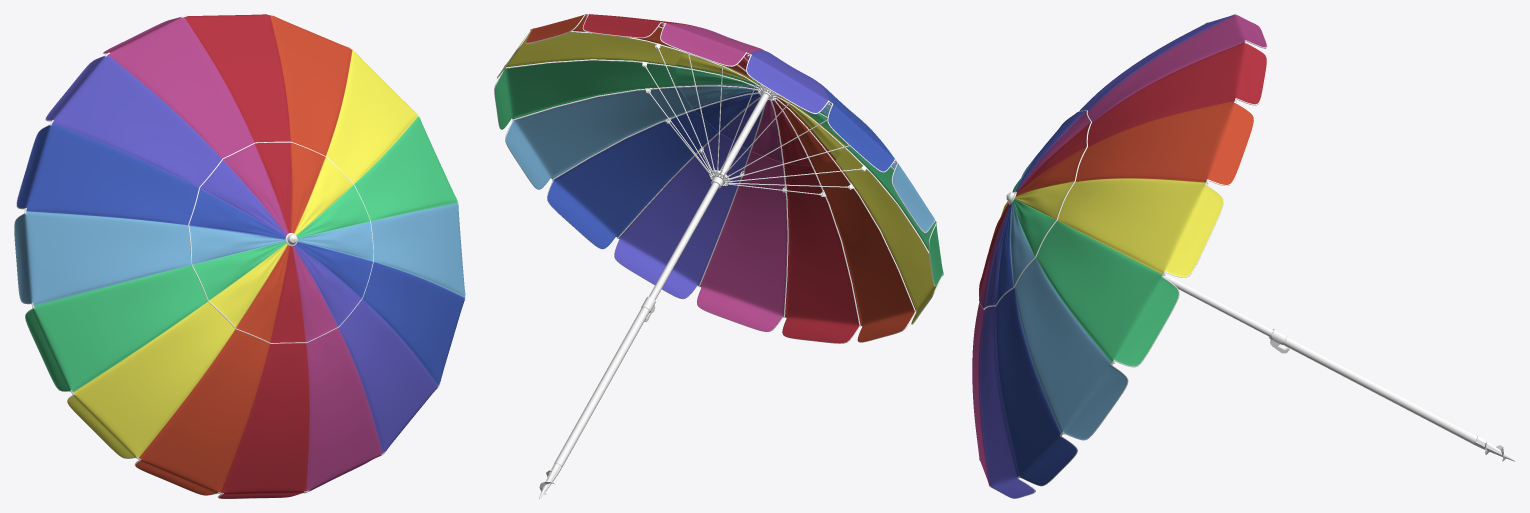
Rendered from umbrella_compressed.glb.
The picture shows the model from 3 angles, left to right: view 1: azimuth 30°, elevation 25°; view 2: azimuth 150°, elevation 25°; view 3: azimuth 270°, elevation 25°; orthographic projection. The views are drawn at different scales.
Parts seen in each view (by area): view 1: umbrella.001; view 2: umbrella.001; view 3: umbrella.001.
Part boxes in pixels (x1,y1,x2,y2): umbrella.001: (14, 14, 465, 498); umbrella.001: (494, 14, 943, 498); umbrella.001: (972, 14, 1515, 498).
Size of the model in its own units: 79.69 by 70.76 by 81.16.
2 materials, 1 textured.
